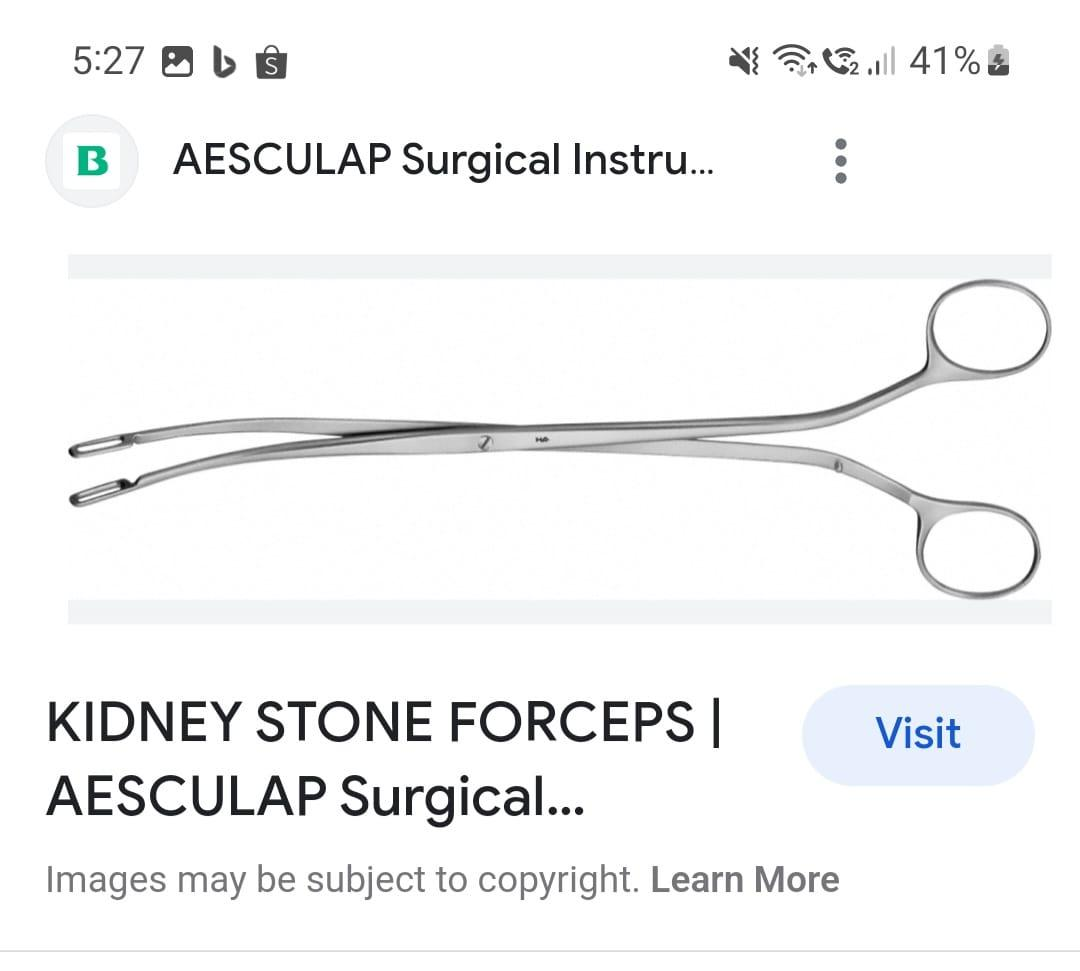Desjardin Forceps: (57, 266, 1057, 606)
